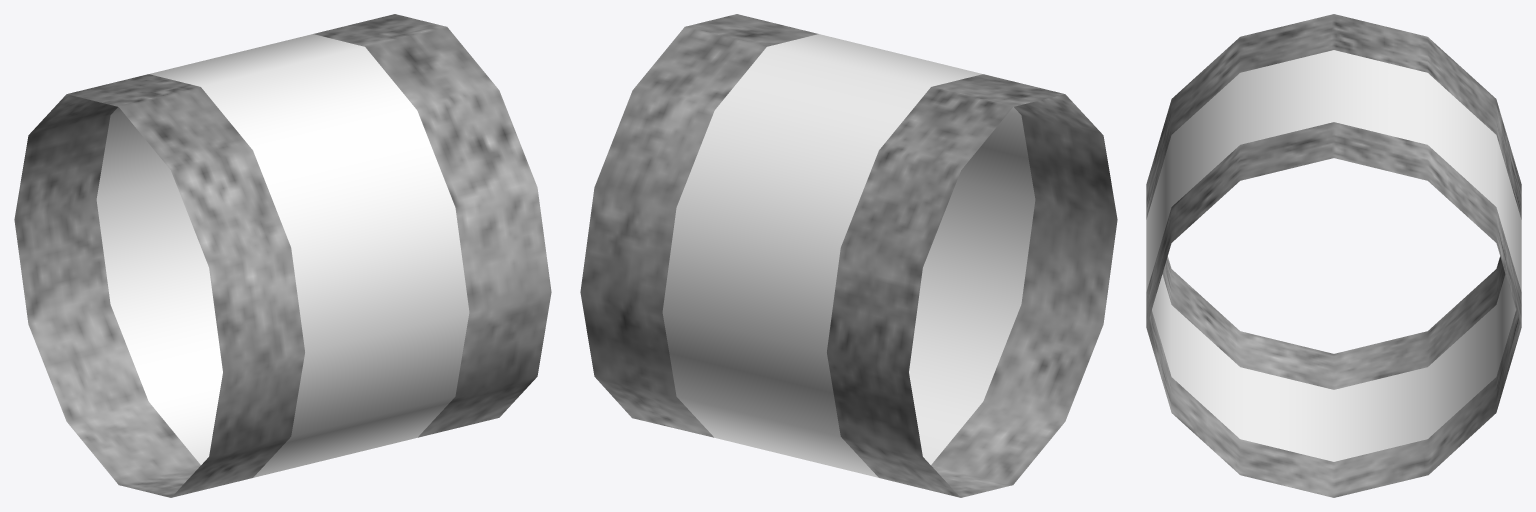
The model's file is WallGunPt5.obj.
3 renders of one model, left to right at view 1: azimuth 30°, elevation 25°; view 2: azimuth 150°, elevation 25°; view 3: azimuth 270°, elevation 25°, orthographic. The views are drawn at different scales.
Parts seen in each view (by area): view 1: Cube.003; view 2: Cube.003; view 3: Cube.003.
Part boxes in pixels (x1,y1,x2,y2): Cube.003: [14, 14, 551, 497]; Cube.003: [580, 14, 1117, 497]; Cube.003: [1146, 14, 1521, 497].
Size of the model in its own units: 2 by 2.2 by 2.2.
